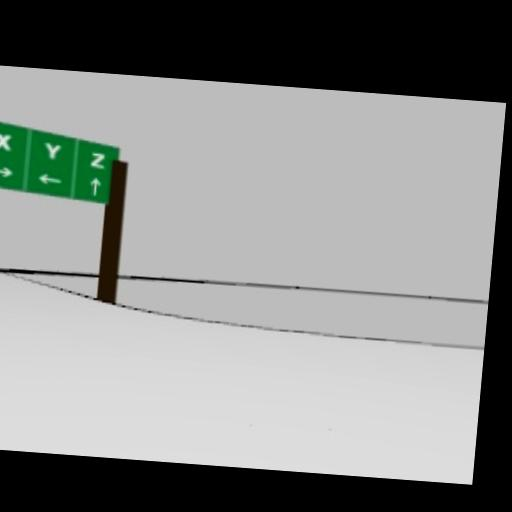Left: (37, 170, 64, 189)
Right: (0, 165, 14, 181)
Straight: (88, 175, 102, 197)
X: (0, 129, 16, 153)
Y: (42, 141, 64, 163)
Z: (88, 149, 109, 172)
